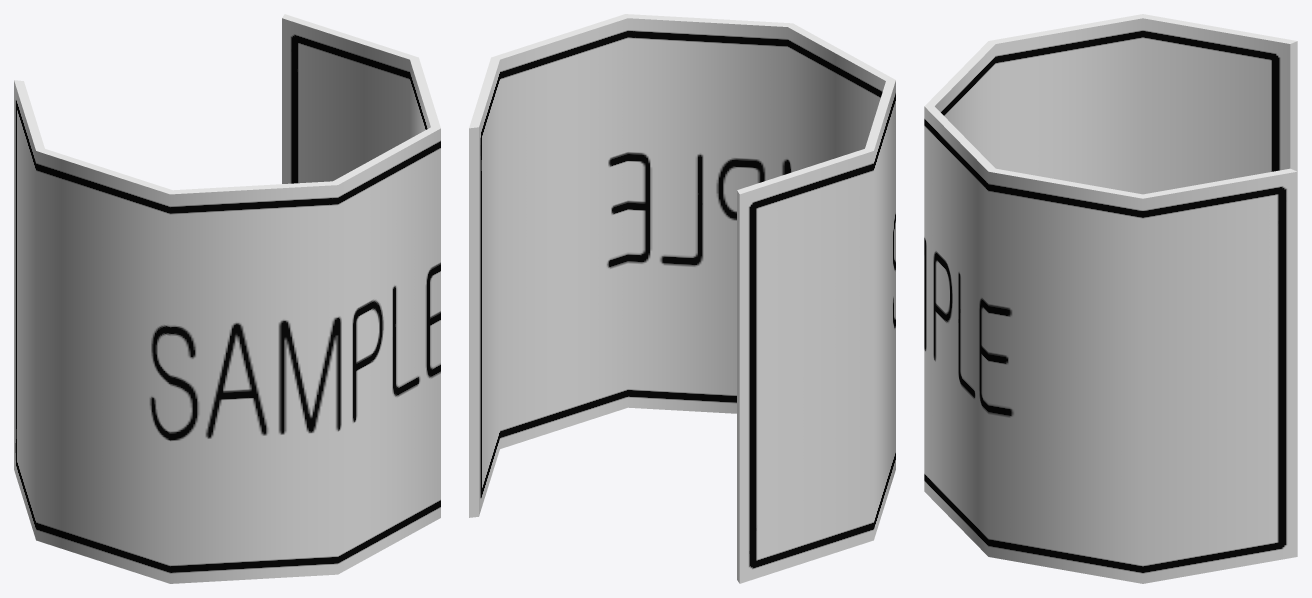
The model's file is Itr_Obj_Cylindercup_Label_01.FBX.
3 views of the same model, side by side, from view 1: azimuth 30°, elevation 25°; view 2: azimuth 150°, elevation 25°; view 3: azimuth 270°, elevation 25° (orthographic).
Parts seen in each view (by area): view 1: Itr_Obj_Cylindercup_Label_01; view 2: Itr_Obj_Cylindercup_Label_01; view 3: Itr_Obj_Cylindercup_Label_01.
Part boxes in pixels (x1=…): Itr_Obj_Cylindercup_Label_01: x1=14, y1=14, x2=440, y2=583; Itr_Obj_Cylindercup_Label_01: x1=469, y1=14, x2=895, y2=583; Itr_Obj_Cylindercup_Label_01: x1=924, y1=14, x2=1297, y2=583.
Size of the model in its own units: 3.95 by 3.84 by 3.37.
